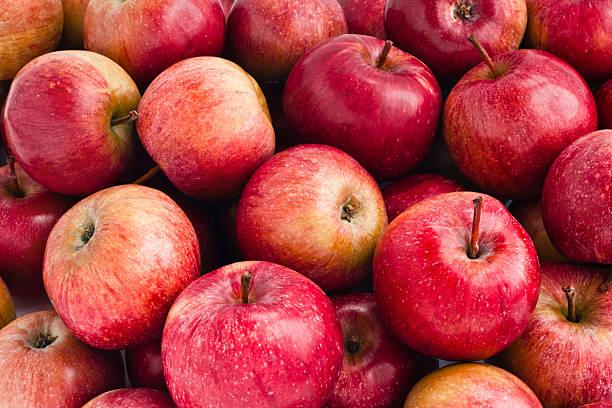apple: (372, 181, 533, 360), (162, 249, 334, 408), (37, 185, 195, 346), (284, 27, 440, 189), (446, 37, 599, 193), (3, 46, 153, 190), (135, 47, 277, 197), (242, 136, 387, 272), (533, 258, 612, 408), (2, 311, 124, 408), (85, 1, 231, 65), (382, 0, 528, 64), (333, 288, 409, 408), (551, 126, 612, 271), (0, 156, 61, 293), (395, 356, 544, 408), (226, 0, 347, 59)
